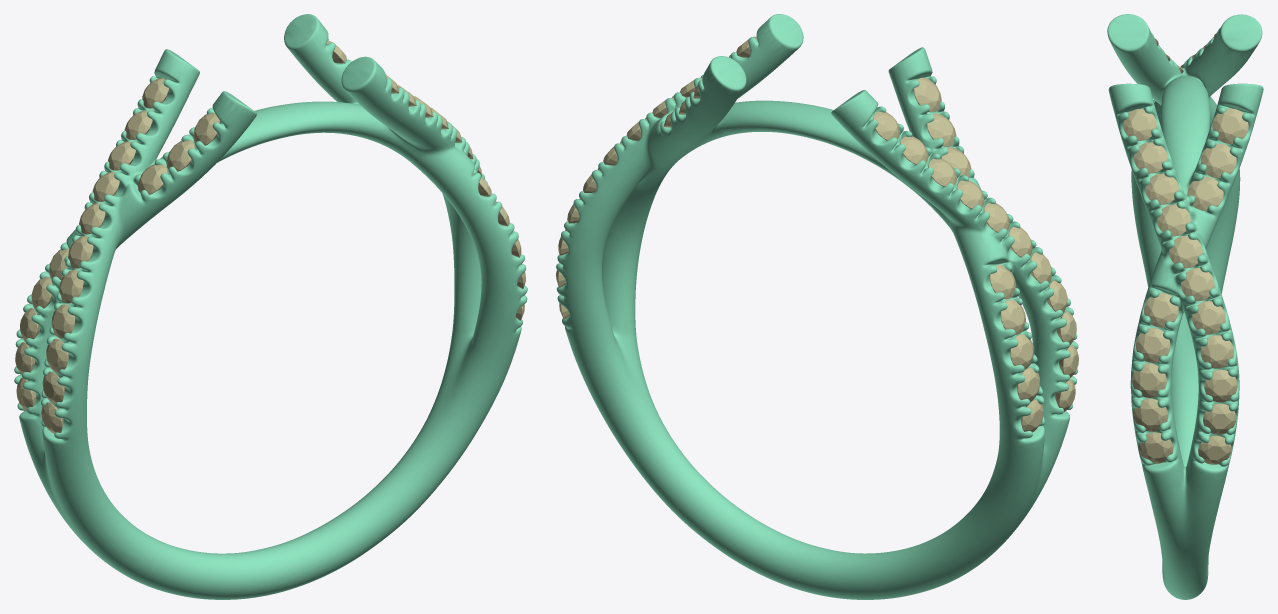
3 renders of one model, left to right at view 1: azimuth 30°, elevation 25°; view 2: azimuth 150°, elevation 25°; view 3: azimuth 270°, elevation 25°, orthographic. The views are drawn at different scales.
Parts seen in each view (by area): view 1: Metal02; view 2: Metal02; view 3: Metal02, Diamond_Gem.024, Diamond_Gem.025, Diamond_Gem.022, Diamond_Gem.026, Diamond_Gem.021, Diamond_Gem.023, Diamond_Gem.034, Diamond_Gem.033, Diamond_Gem.020, Diamond_Gem.032, Diamond_Gem.035 (+8 smaller).
Part boxes in pixels (x1,y1,x2,y2): Metal02: [14, 14, 527, 599]; Metal02: [556, 14, 1078, 599]; Metal02: [1107, 14, 1263, 599]; Diamond_Gem.024: [1212, 108, 1248, 143]; Diamond_Gem.025: [1200, 143, 1236, 178]; Diamond_Gem.022: [1135, 328, 1170, 362]; Diamond_Gem.026: [1187, 177, 1223, 210]; Diamond_Gem.021: [1132, 363, 1166, 397]; Diamond_Gem.023: [1144, 293, 1178, 327]; Diamond_Gem.034: [1200, 335, 1233, 368]; Diamond_Gem.033: [1192, 301, 1225, 334]; Diamond_Gem.020: [1133, 398, 1168, 431]; Diamond_Gem.032: [1181, 268, 1214, 301]; Diamond_Gem.035: [1204, 369, 1237, 402].
Size of the model in its own units: 21.09 by 22.45 by 6.04.
